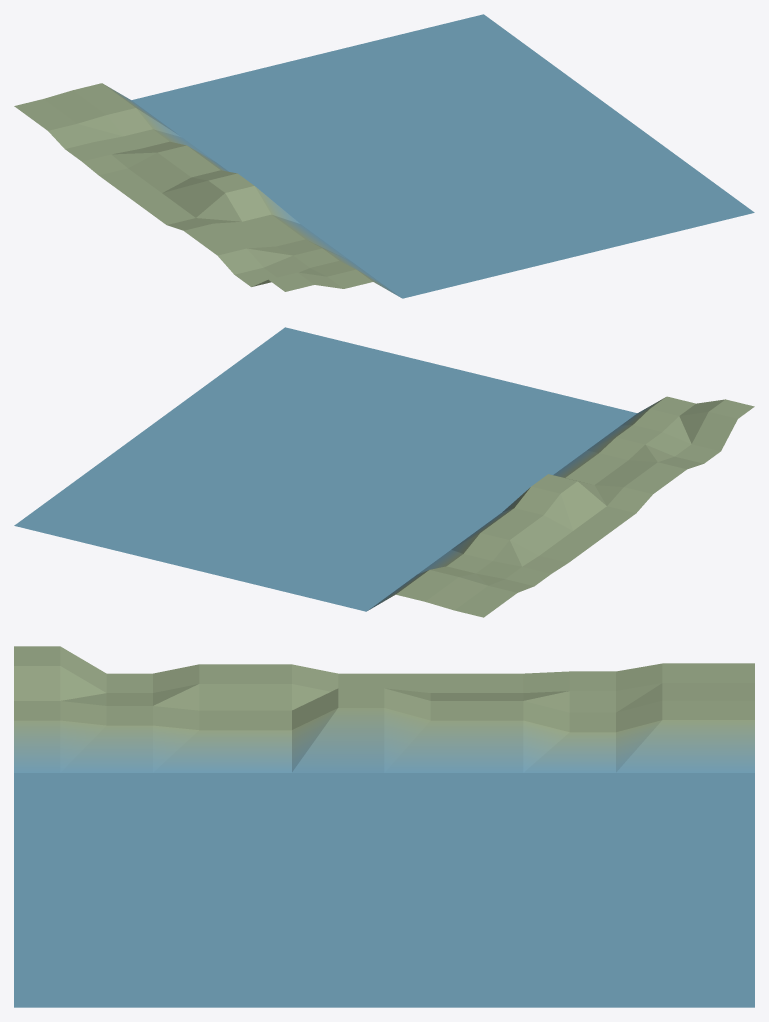
The picture shows the model from 3 angles, top to bottom: view 1: azimuth 30°, elevation 25°; view 2: azimuth 150°, elevation 25°; view 3: azimuth 270°, elevation 25°; orthographic projection. The views are drawn at different scales.
Size of the model in its own units: 32 by 2.3 by 32.
